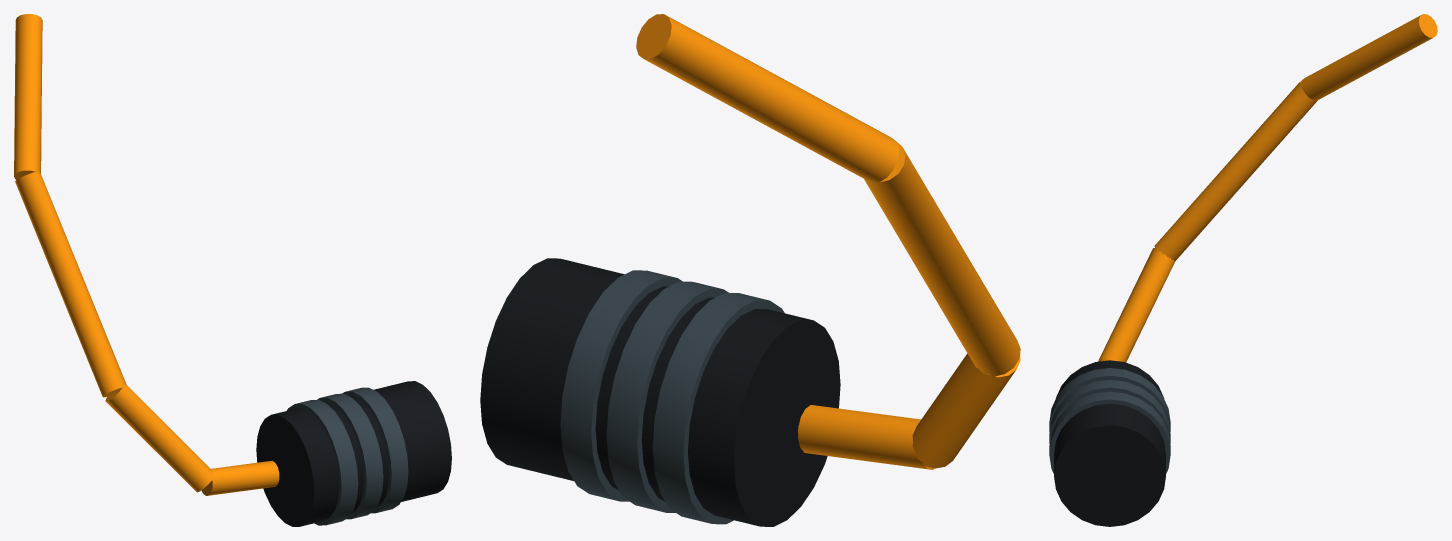
File: rov_tether.dae
3 renders of one model, left to right at view 1: azimuth 30°, elevation 25°; view 2: azimuth 150°, elevation 25°; view 3: azimuth 270°, elevation 25°, orthographic. The views are drawn at different scales.
Parts seen in each view (by area): view 1: node2, node0, node1; view 2: node0, node2, node1; view 3: node2, node0, node1.
Part boxes in pixels (<box>): node2: <box>14,14,279,495</box>; node0: <box>256,381,451,526</box>; node1: <box>287,387,408,525</box>; node0: <box>480,258,840,526</box>; node2: <box>636,14,1020,469</box>; node1: <box>560,270,784,524</box>; node2: <box>1098,14,1437,362</box>; node0: <box>1054,360,1165,526</box>; node1: <box>1049,368,1170,473</box>.
Bounding box in the file's own units: 0.0728 × 0.0832 × 0.0959.
